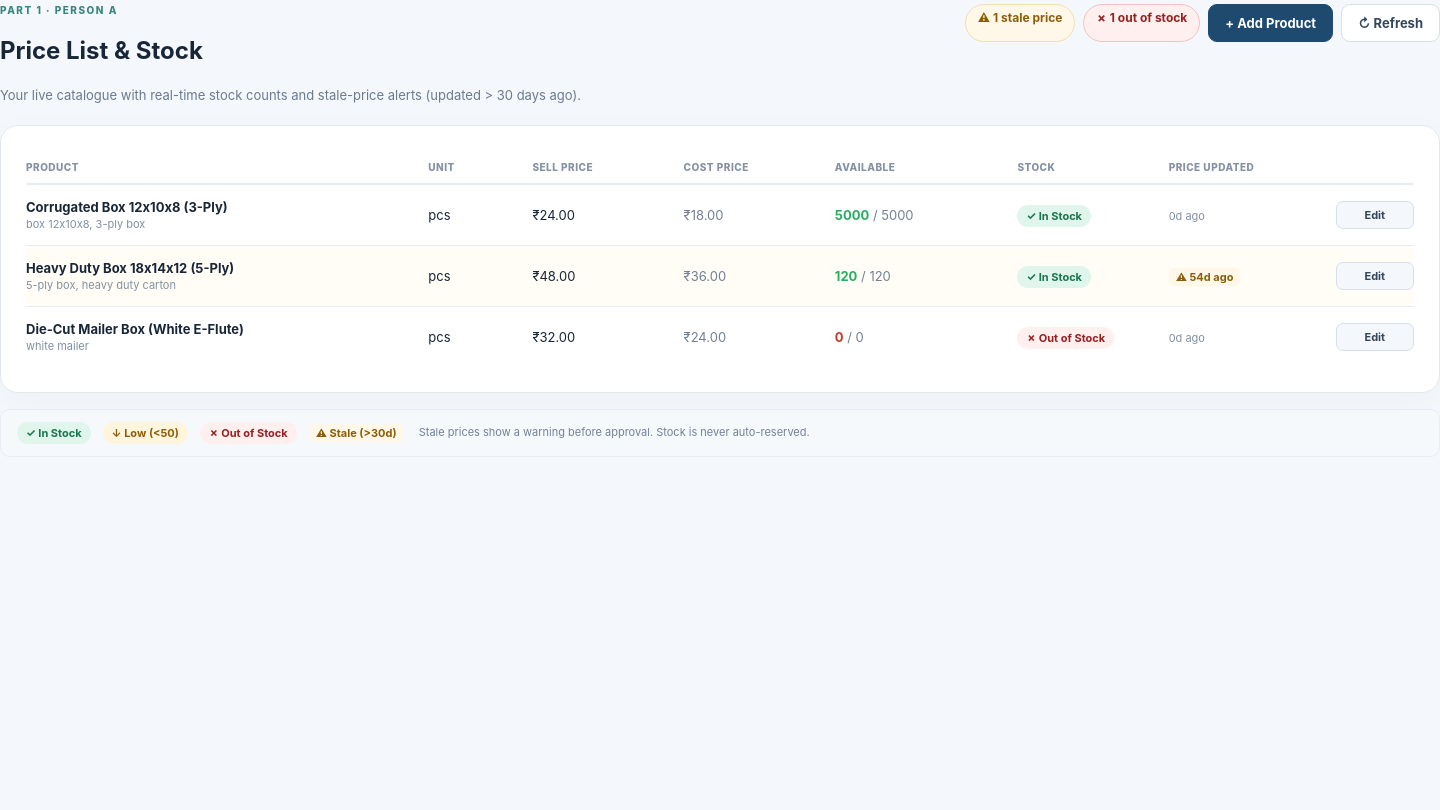
Test: PriceListPage › closes edit modal when Cancel is clicked
Click the button "Edit" in the row of "₹18.00" at [1375, 215], box [1336, 201, 1414, 229]
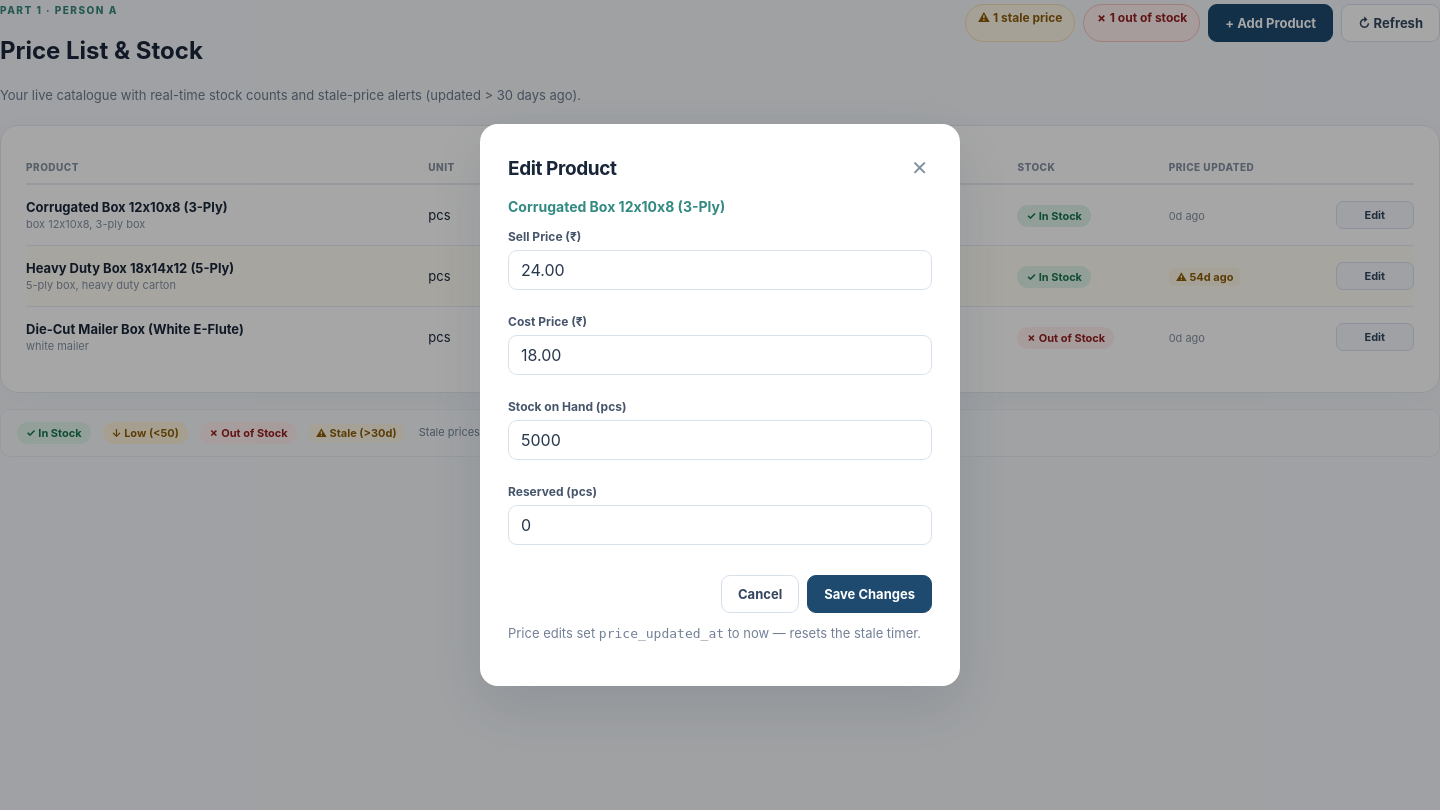
expect the button "Cancel" is shown: met
Click the button "Cancel" at [760, 594], box [721, 575, 799, 613]
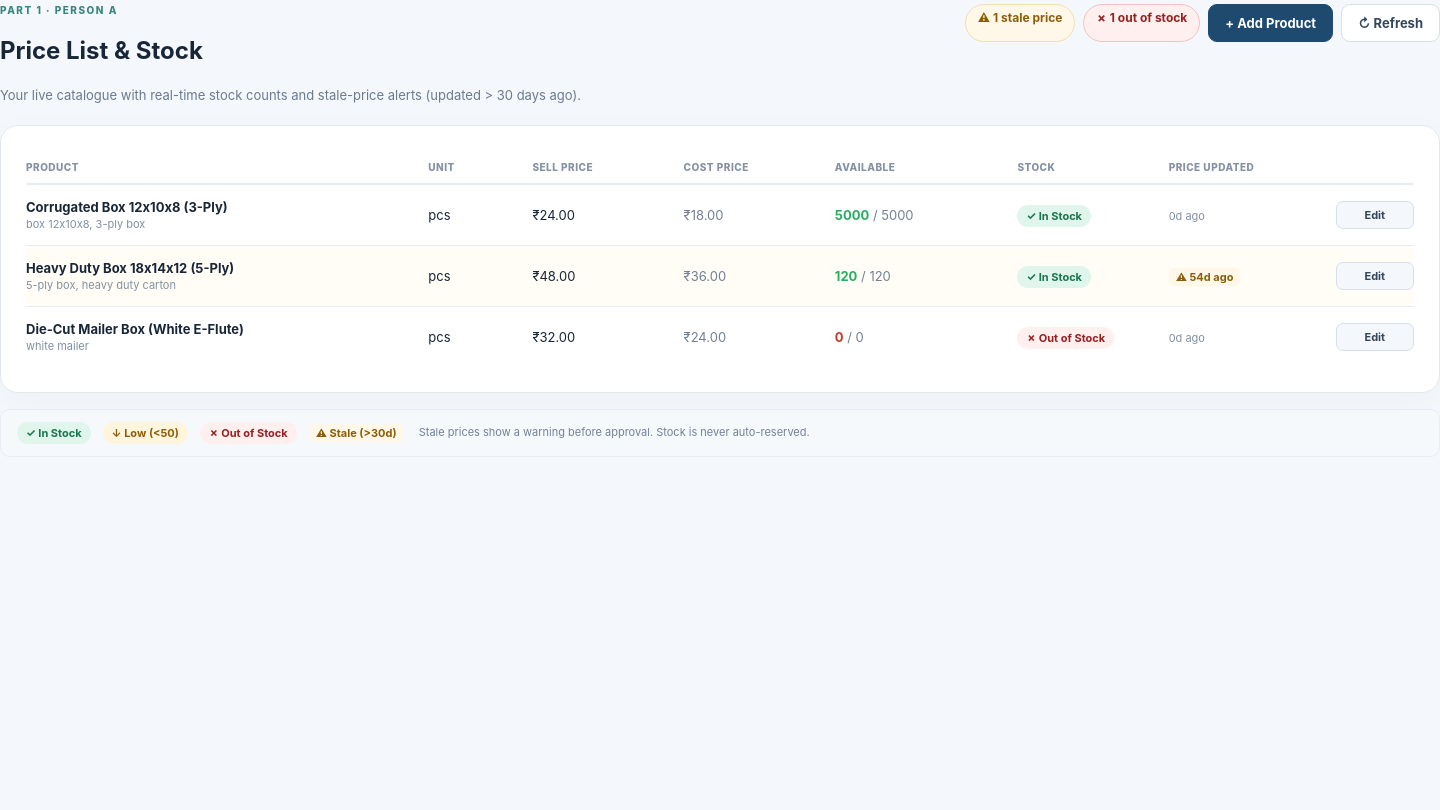
expect the button "Save Changes" is gone: met
